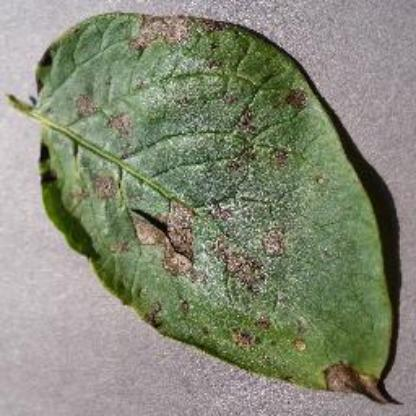Early-Blight: (3, 7, 415, 408)
